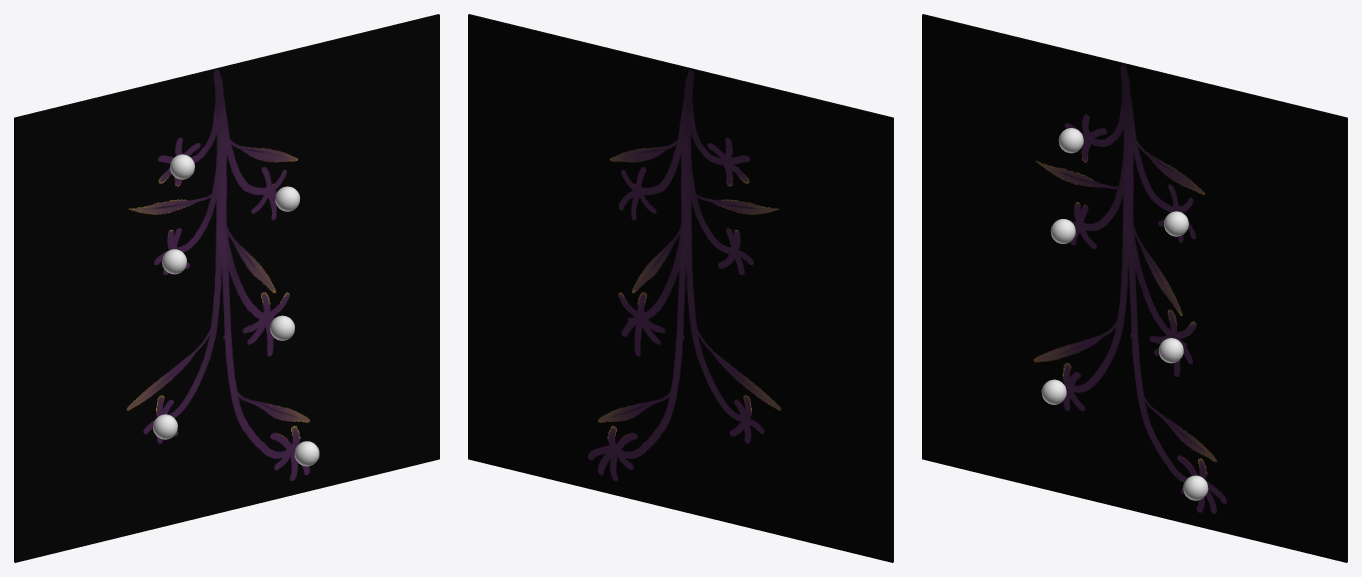
File: cave_bush_4.fbx
3 renders of one model, left to right at view 1: azimuth 30°, elevation 25°; view 2: azimuth 150°, elevation 25°; view 3: azimuth 330°, elevation 25°, orthographic.
Visible parts, largest first — view 1: Plane.005, Sphere; view 2: Plane.005; view 3: Plane.005, Sphere.
Part boxes in pixels (x1,y1,x2,y2): Plane.005: (14, 14, 439, 562); Sphere: (153, 154, 319, 466); Plane.005: (468, 14, 893, 562); Plane.005: (922, 14, 1347, 562); Sphere: (1041, 128, 1208, 500).
Size of the model in its own units: 762 by 762 by 51.45.
Materials: 2 (1 with a texture image).
